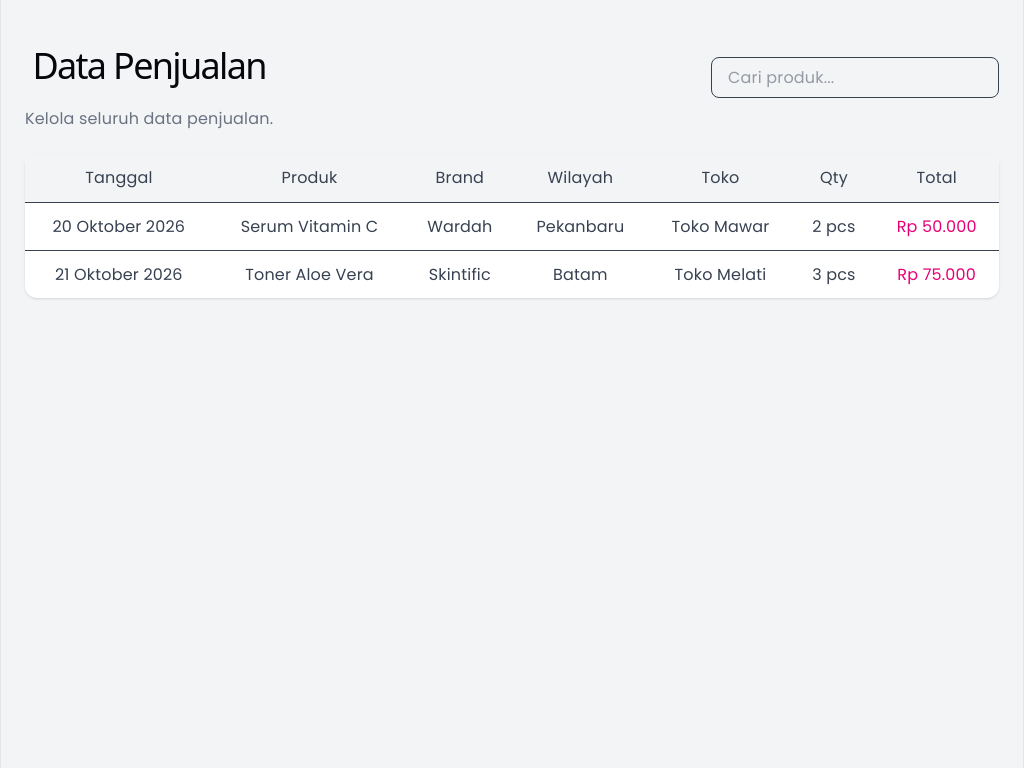
Test: White Box Testing - Data Penjualan HEBEPKU › WB-DP06 - mencari data berdasarkan nama produk
The image size is (1024, 768).
Type "Serum" into the field with placeholder "Cari produk..." at (855, 77), box [711,57,999,98]
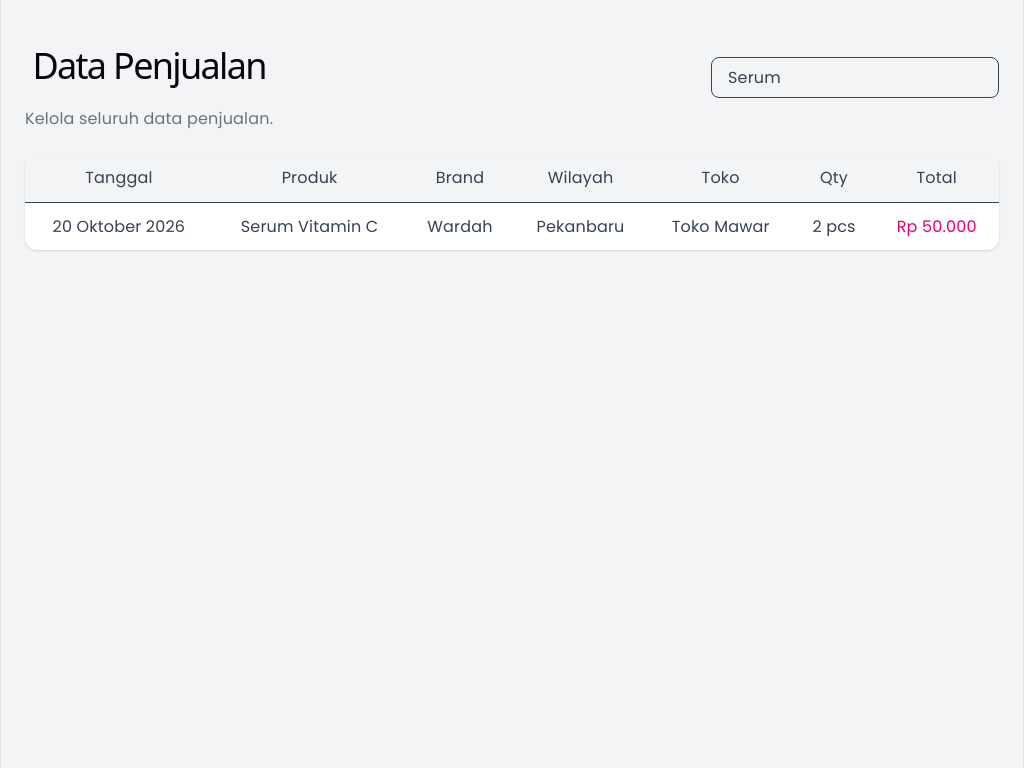
Check: the text "Serum Vitamin C" is shown, box [213,202,406,250]
Check: the text "Toner Aloe Vera" is gone
